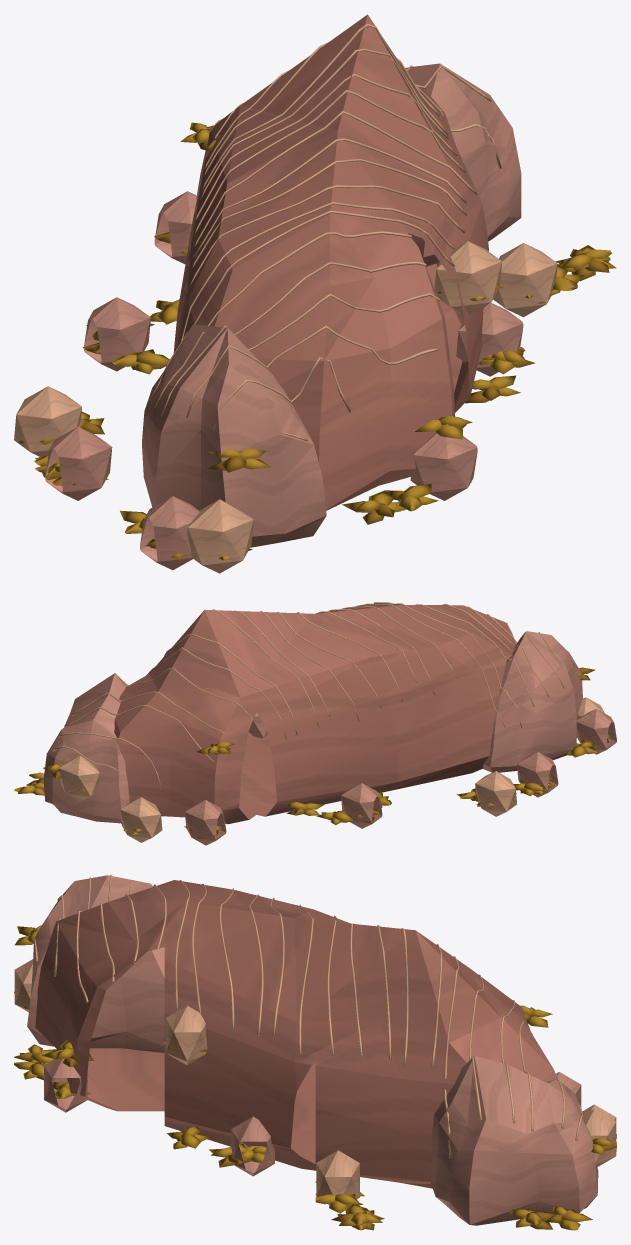
File: PilotRidgeNE_3.fbx
3 renders of one model, top to bottom at view 1: azimuth 30°, elevation 25°; view 2: azimuth 150°, elevation 25°; view 3: azimuth 270°, elevation 25°, orthographic. The views are drawn at different scales.
Visible parts, largest first — view 1: PilotRidgeNE_3__Geometry; view 2: PilotRidgeNE_3__Geometry; view 3: PilotRidgeNE_3__Geometry.
Part boxes in pixels (x1,y1,x2,y2): PilotRidgeNE_3__Geometry: (14, 14, 616, 573); PilotRidgeNE_3__Geometry: (14, 602, 616, 845); PilotRidgeNE_3__Geometry: (14, 874, 616, 1230).
Bounding box in the file's own units: 4 × 1.74 × 4.
